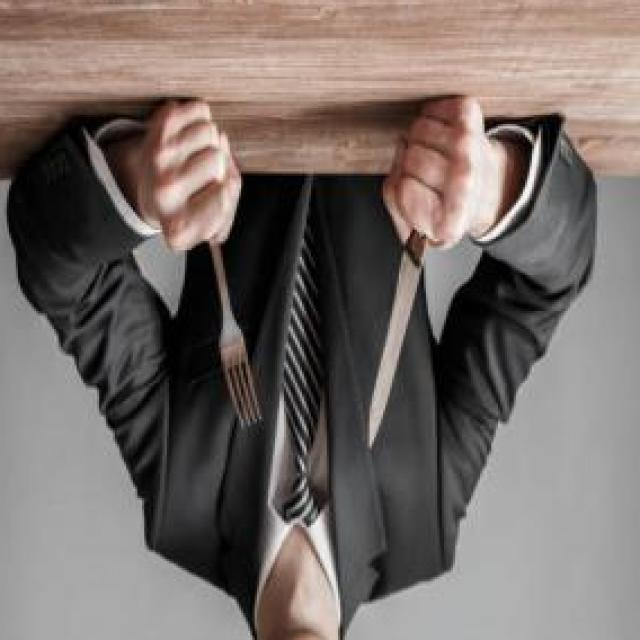knife: (365, 192, 440, 458)
